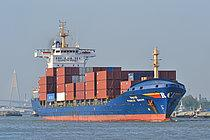Ship: (29, 16, 188, 122)
